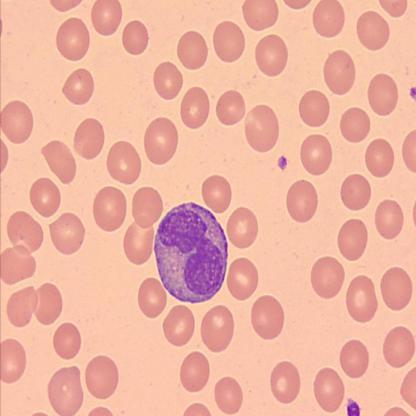Monocyte: (152, 199, 230, 306)
